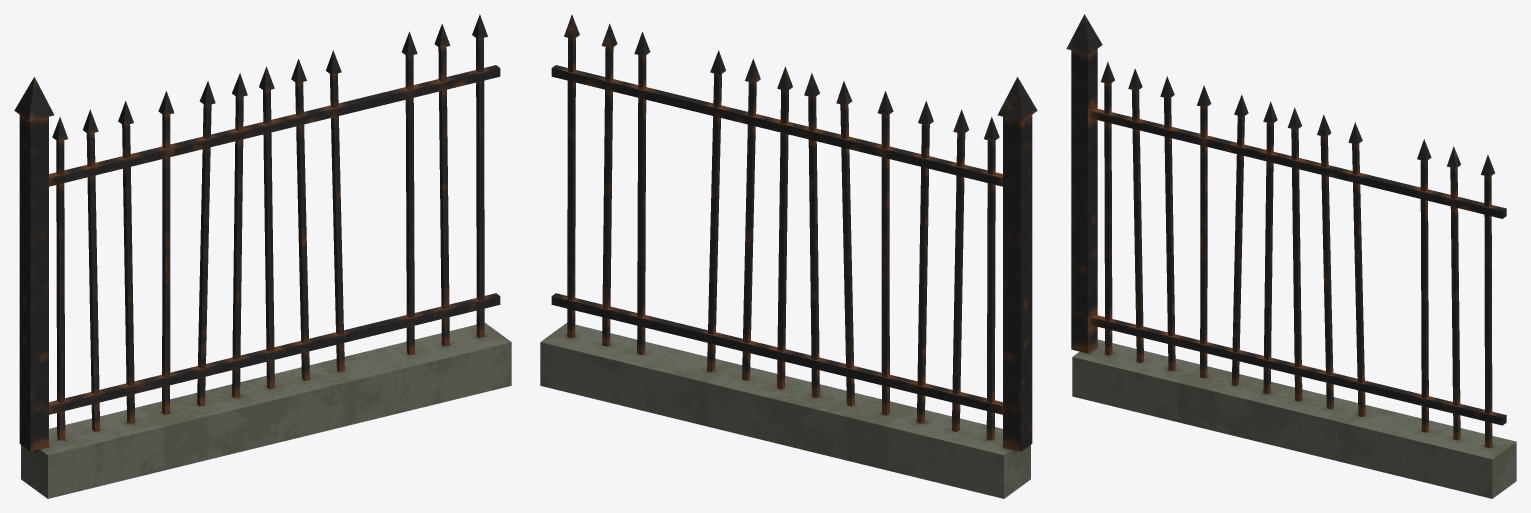
File: Fence_Iron_2m_01.obj
The picture shows the model from 3 angles, left to right: view 1: azimuth 30°, elevation 25°; view 2: azimuth 150°, elevation 25°; view 3: azimuth 330°, elevation 25°; orthographic projection. The views are drawn at different scales.
Visible parts, largest first — view 1: Fence_Iron_2m_01; view 2: Fence_Iron_2m_01; view 3: Fence_Iron_2m_01.
Part boxes in pixels (x1,y1,x2,y2): Fence_Iron_2m_01: [14, 14, 511, 498]; Fence_Iron_2m_01: [540, 14, 1037, 498]; Fence_Iron_2m_01: [1066, 14, 1516, 498].
Size of the model in its own units: 2.05 by 1.7 by 0.2.
1 material, 1 textured.
